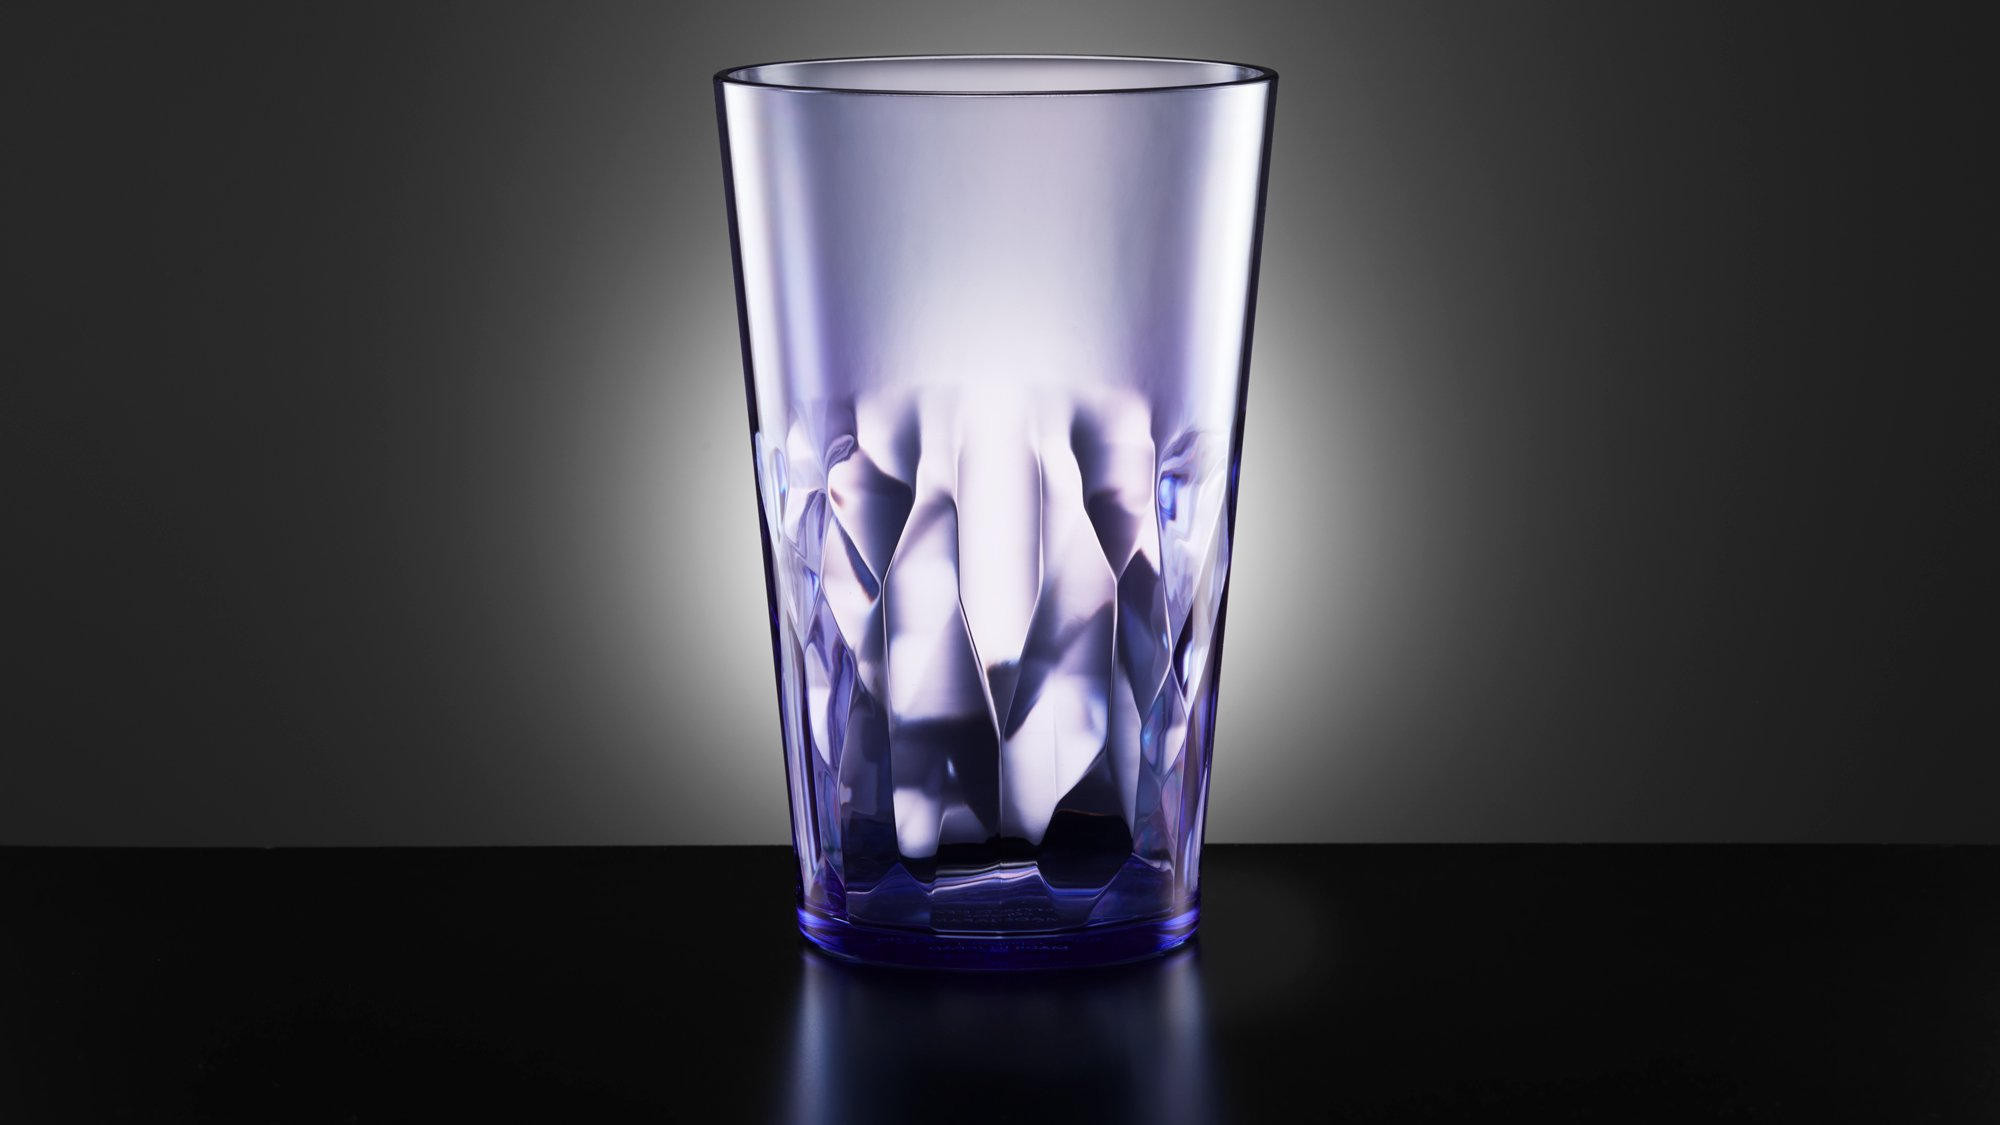plastic_glass: (699, 36, 1293, 990)
